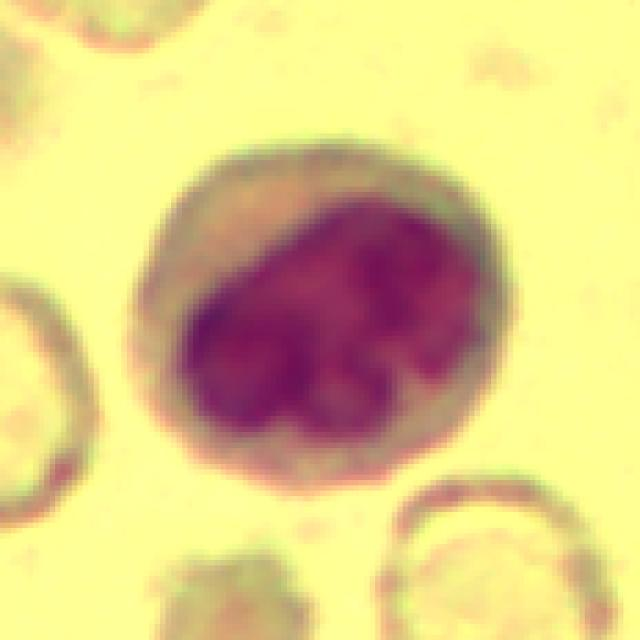WBC: (105, 106, 541, 522)
